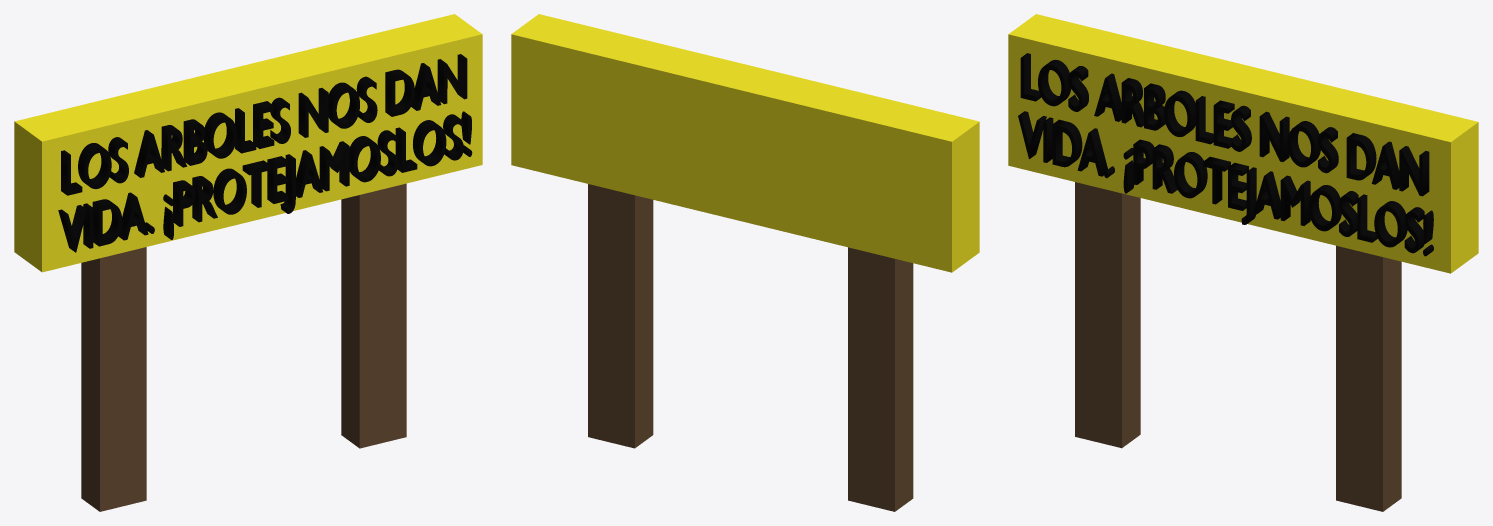
Rendered from LosArboles.glb.
3 views of the same model, side by side, from view 1: azimuth 30°, elevation 25°; view 2: azimuth 150°, elevation 25°; view 3: azimuth 330°, elevation 25° (orthographic).
Visible parts, largest first — view 1: Cubo, Texto, Cubo.008, Cubo.006; view 2: Cubo, Cubo.008, Cubo.006; view 3: Cubo, Texto, Cubo.008, Cubo.006.
Part boxes in pixels (box(x1,y1,x2,y2)): Cubo: box(14, 14, 482, 272); Texto: box(58, 54, 472, 252); Cubo.008: box(341, 183, 406, 448); Cubo.006: box(81, 247, 146, 511); Cubo: box(511, 14, 979, 272); Cubo.008: box(588, 184, 653, 448); Cubo.006: box(848, 247, 913, 511); Cubo: box(1008, 14, 1478, 273); Texto: box(1018, 53, 1433, 256); Cubo.008: box(1336, 245, 1401, 511); Cubo.006: box(1075, 182, 1140, 448).
Size of the model in its own units: 4.23 by 3.56 by 0.5676.
